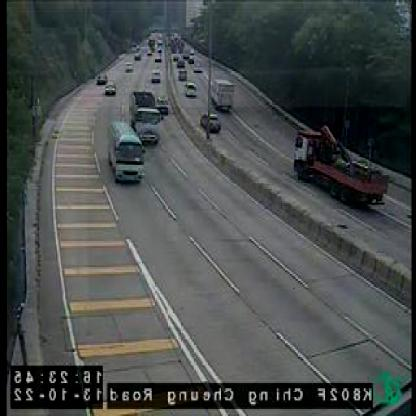Car: (107, 117, 145, 188), (201, 112, 221, 134), (156, 94, 169, 114), (184, 82, 198, 98), (104, 82, 116, 97), (96, 71, 108, 84), (194, 58, 204, 73), (150, 70, 161, 82), (178, 68, 188, 80), (123, 62, 133, 73), (177, 58, 186, 68), (132, 52, 141, 60)
Truck: (295, 124, 389, 209), (130, 92, 160, 146), (208, 79, 236, 111)
